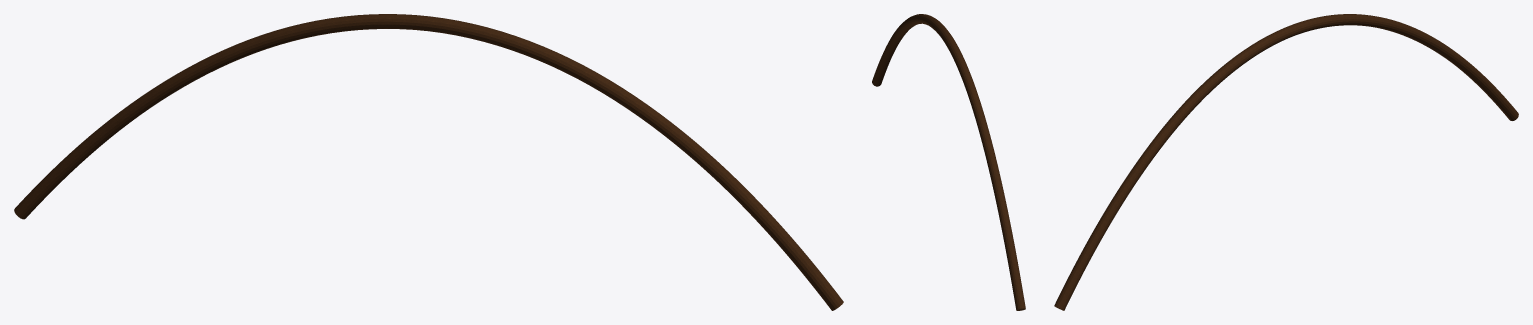
The model's file is SanctuaryTowersWoodArch.obj.
3 views of the same model, side by side, from view 1: azimuth 30°, elevation 25°; view 2: azimuth 150°, elevation 25°; view 3: azimuth 270°, elevation 25° (orthographic). The views are drawn at different scales.
Parts seen in each view (by area): view 1: Cylinder; view 2: Cylinder; view 3: Cylinder.
Boxes of the visible parts, bbox=[...] form: Cylinder: bbox=[14, 14, 843, 310]; Cylinder: bbox=[872, 14, 1025, 310]; Cylinder: bbox=[1054, 14, 1518, 310].
Bounding box in the file's own units: 40.9 × 18.23 × 40.9.
